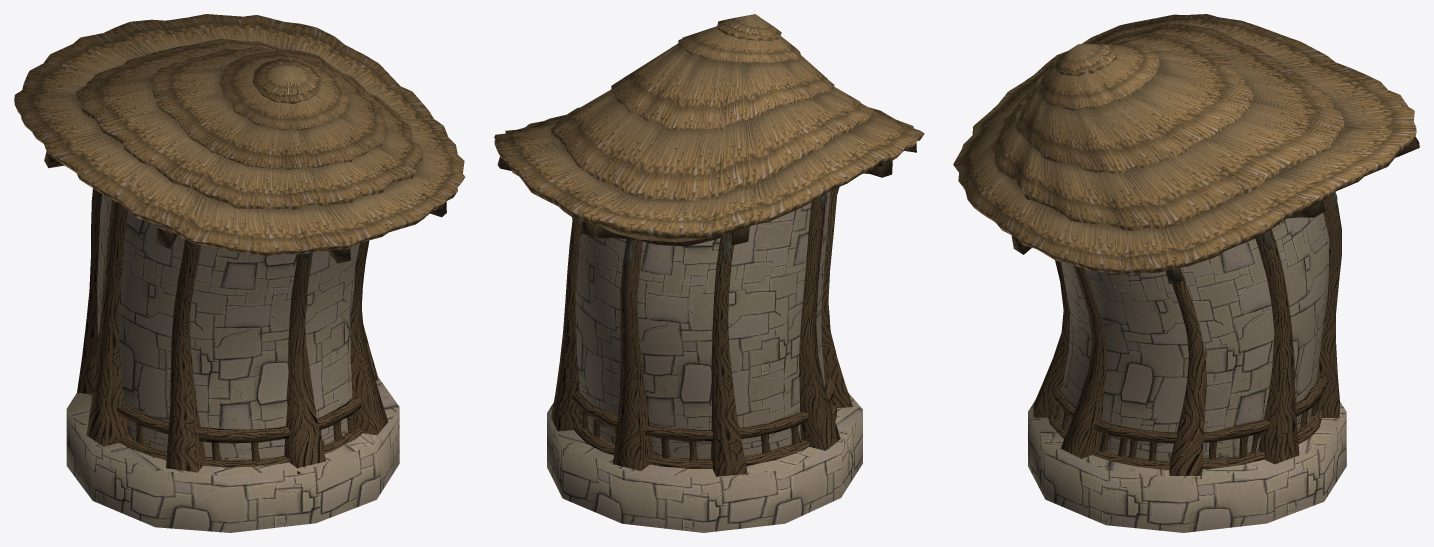
File: house 2.fbx
3 renders of one model, left to right at view 1: azimuth 30°, elevation 25°; view 2: azimuth 150°, elevation 25°; view 3: azimuth 270°, elevation 25°, orthographic. The views are drawn at different scales.
Visible parts, largest first — view 1: node_id180, node_id184, node_id178, node_id182; view 2: node_id180, node_id184, node_id178, node_id182; view 3: node_id180, node_id184, node_id182, node_id178.
Part boxes in pixels (<box>): node_id180: <box>66,195,399,532</box>; node_id184: <box>14,14,465,256</box>; node_id178: <box>44,151,446,473</box>; node_id182: <box>76,39,424,209</box>; node_id180: <box>547,191,862,532</box>; node_id184: <box>494,14,924,242</box>; node_id178: <box>497,143,916,476</box>; node_id182: <box>551,26,873,200</box>; node_id180: <box>1028,212,1346,532</box>; node_id184: <box>953,14,1416,275</box>; node_id182: <box>990,24,1344,230</box>; node_id178: <box>963,137,1419,478</box>.
Bounding box in the file's own units: 0.4809 × 0.5104 × 0.512.
4 materials, 4 textured.
